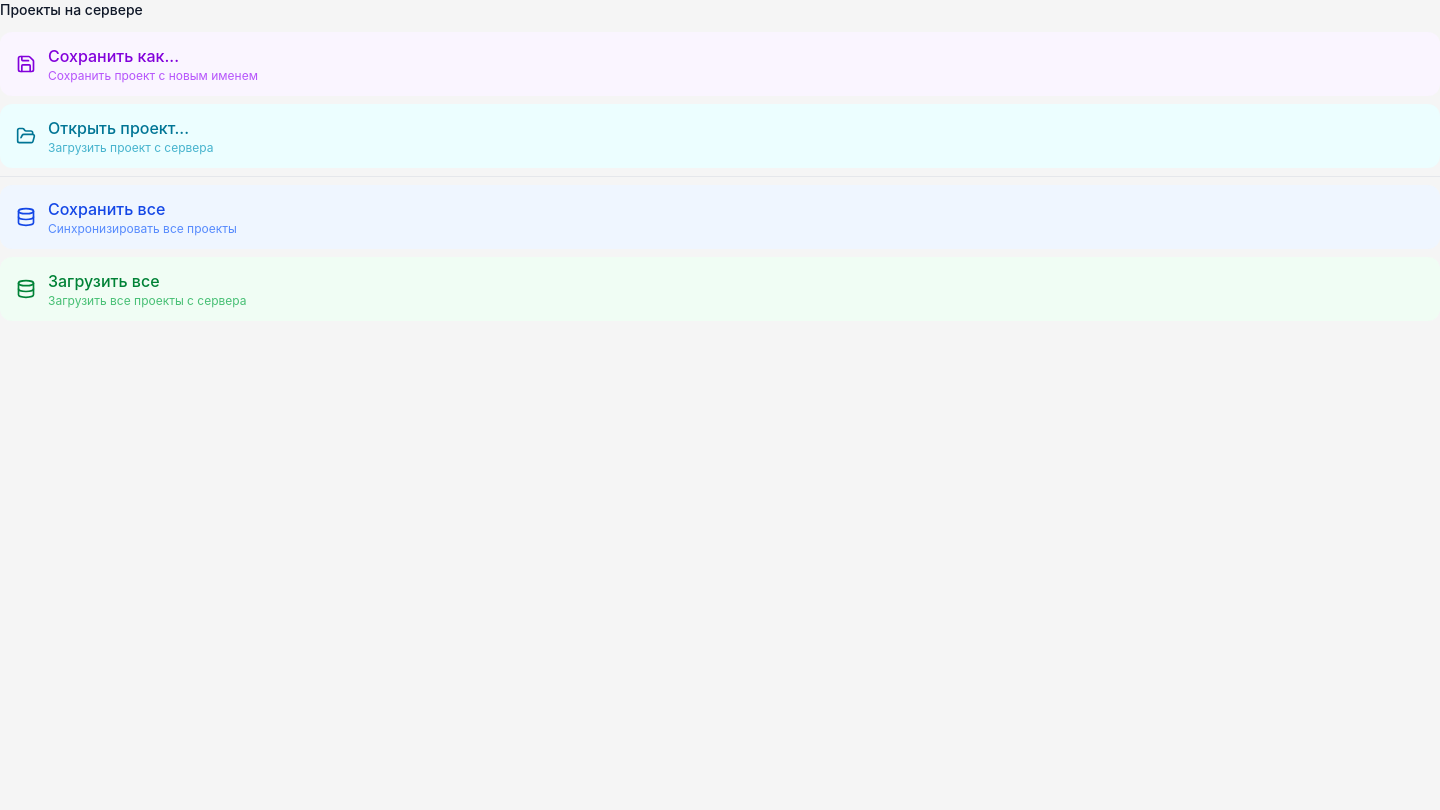
Test: SyncPanel › Сохранить как › открывает диалог с именем активного проекта
Click the text "Сохранить как..." at [114, 56], box [48,46,179,66]
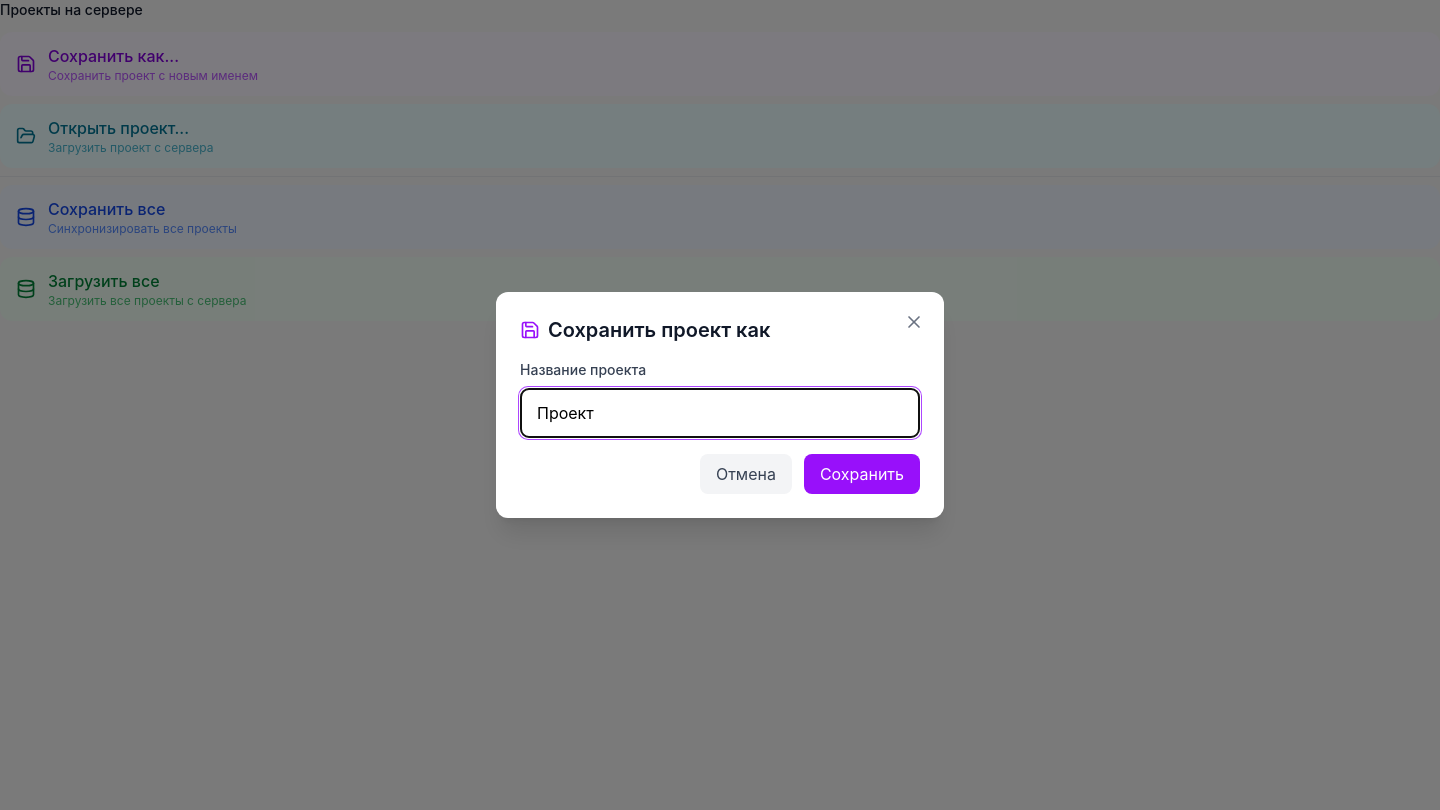
expect the heading "Сохранить проект как" is shown: met, box [520,318,770,342]
expect the field with placeholder "Введите название проекта" holds "Проект": met, box [520,388,920,438]
